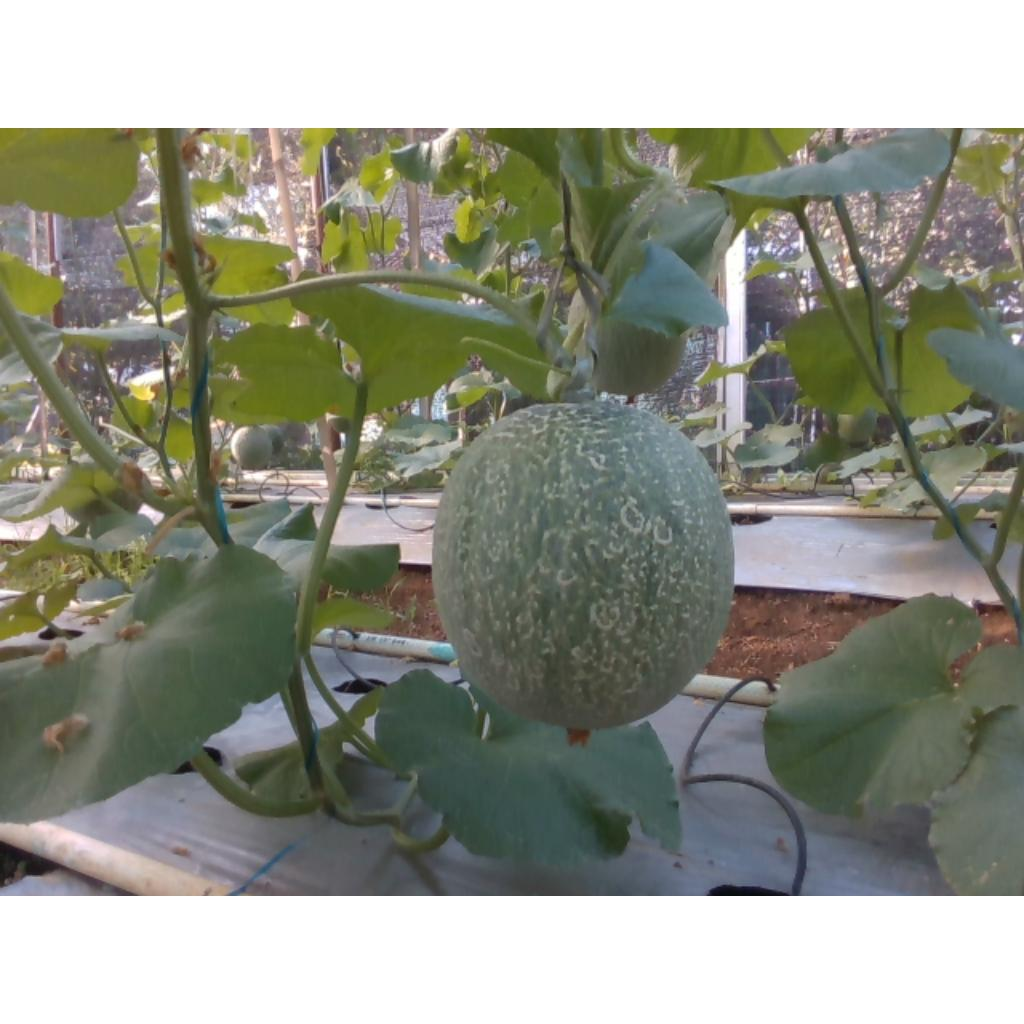melon: (434, 402, 734, 730)
